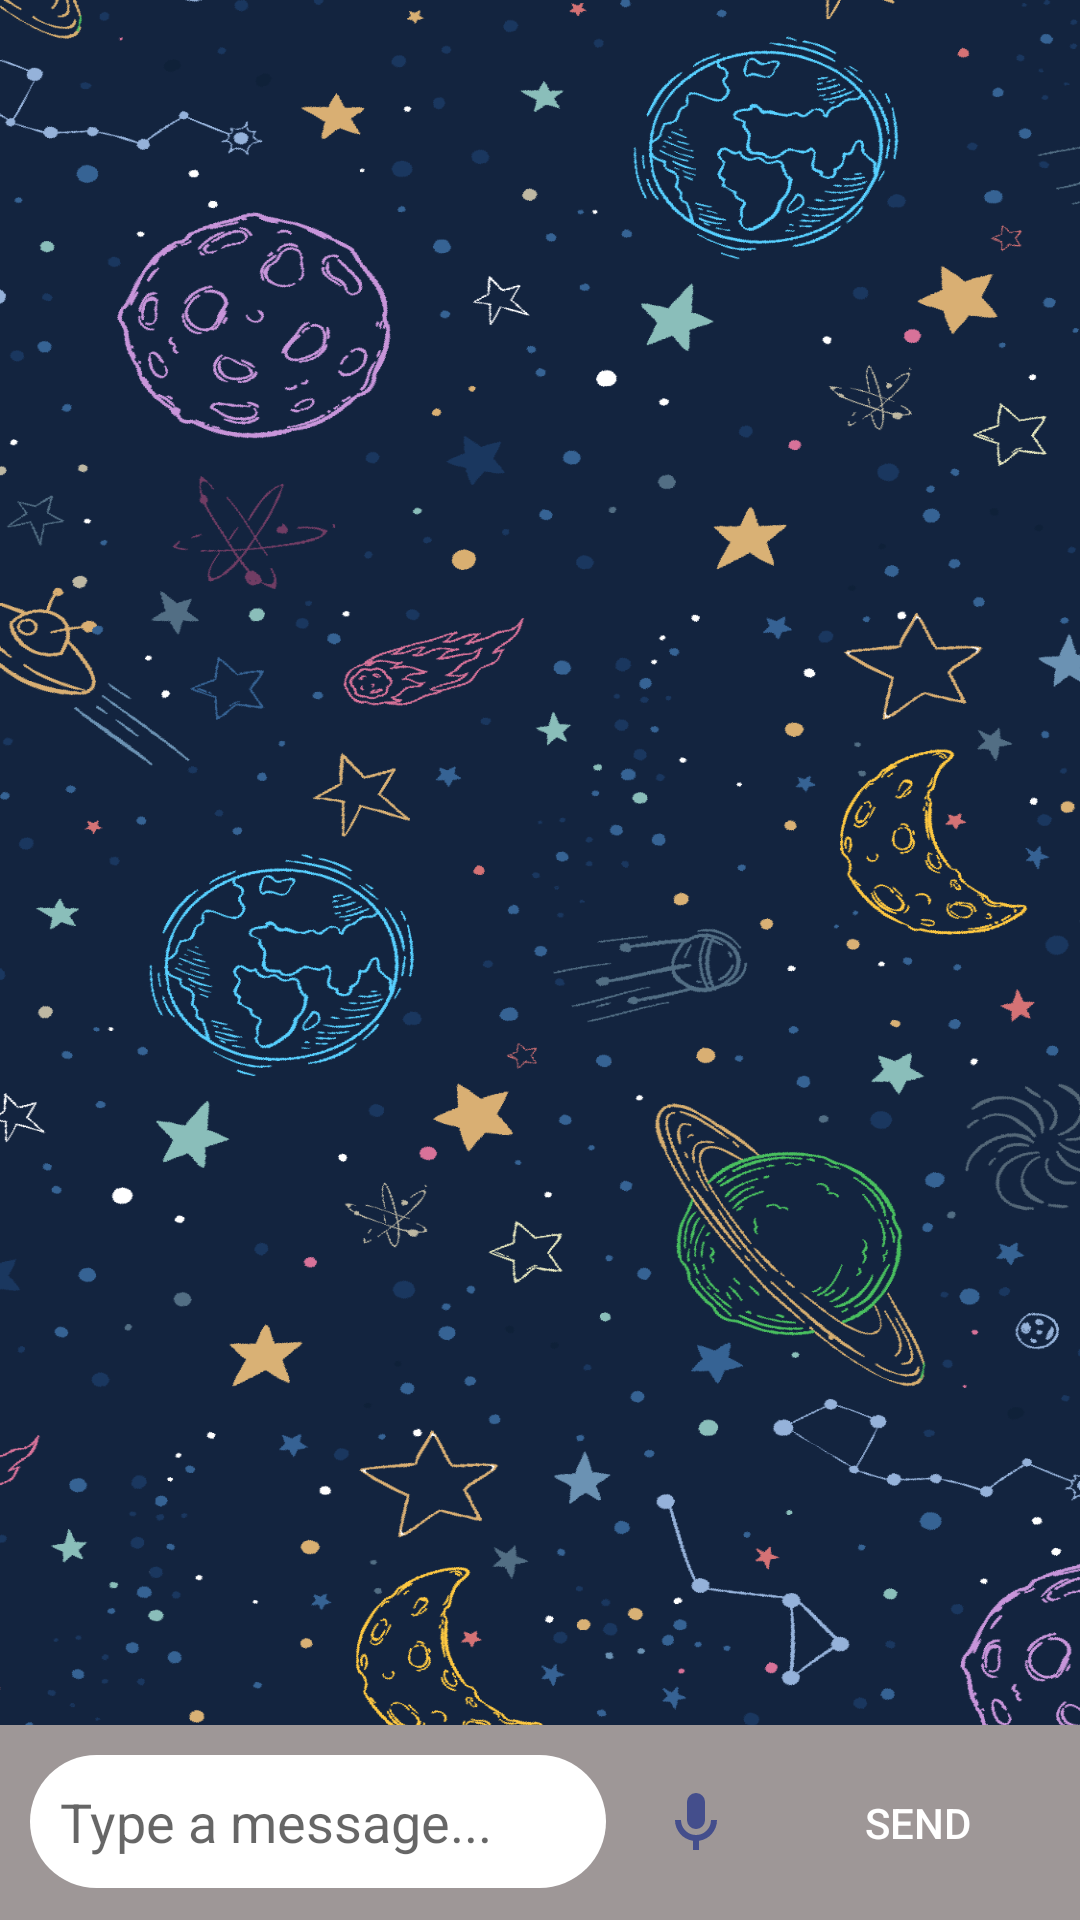

Named icons in this screenshot (1080w x 1920h) and their bounding boxes, (x1, y1, x2, y2):
micro phone: (675, 1793, 717, 1850)
